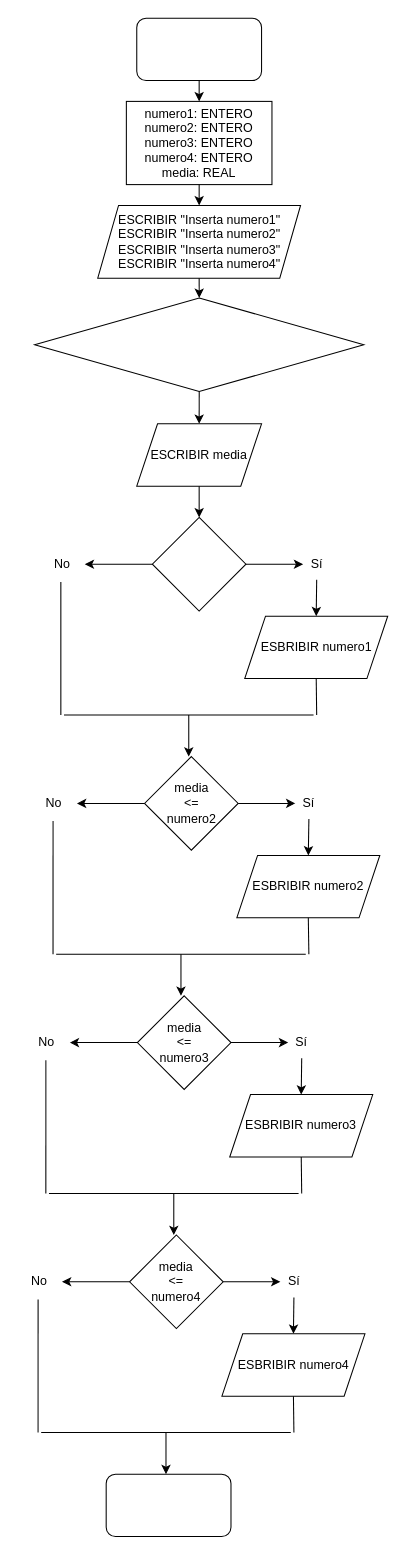
Some shapes in this 407 by 1555 pixel diagram are drawn without their labels. Each missing label, with the centre of its shape:
"FIN" goes at pixel 168 1505.
"INICIO" goes at pixel 199 49.
"media <= numero1" goes at pixel 198 563.
"media<--(numero1+numero2+numero3+numero4)/4" goes at pixel 199 344.
